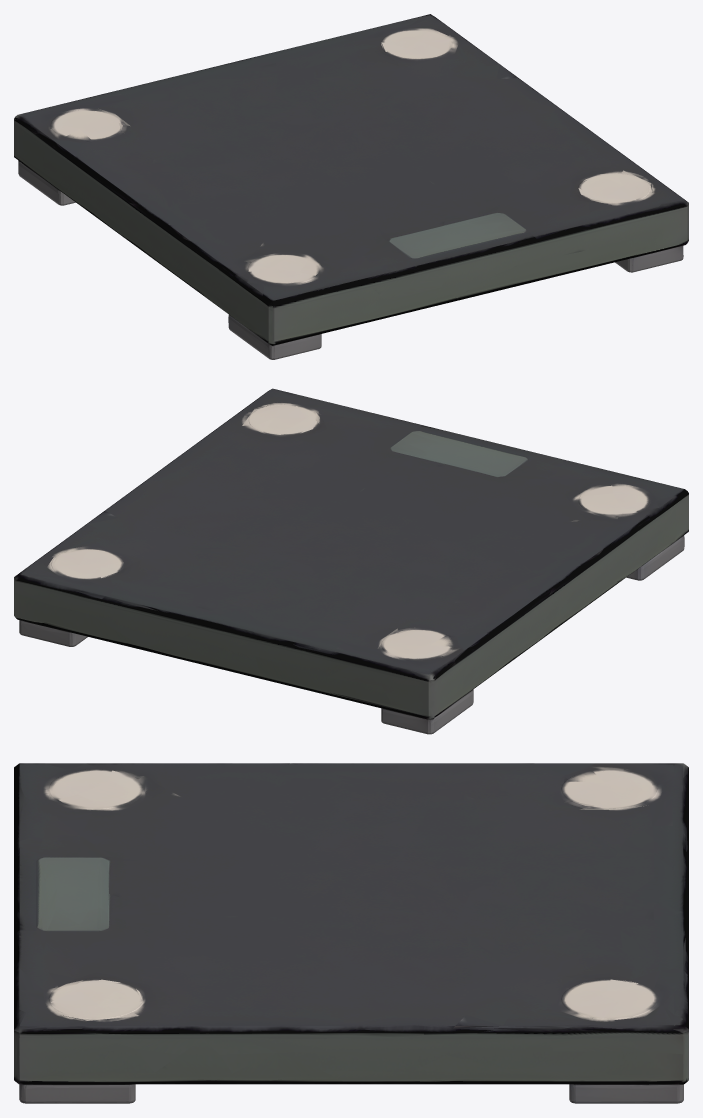
Rendered from body_scale.glb.
The picture shows the model from 3 angles, top to bottom: view 1: azimuth 30°, elevation 25°; view 2: azimuth 150°, elevation 25°; view 3: azimuth 270°, elevation 25°; orthographic projection. The views are drawn at different scales.
Parts seen in each view (by area): view 1: body_scale; view 2: body_scale; view 3: body_scale.
Part boxes in pixels (left/top/right/bottom): body_scale: left=14, top=14, right=688, bottom=359; body_scale: left=14, top=388, right=688, bottom=734; body_scale: left=14, top=763, right=688, bottom=1103.
Bounding box in the file's own units: 0.35 × 0.0485 × 0.373.
Materials: 1 (1 with a texture image).
